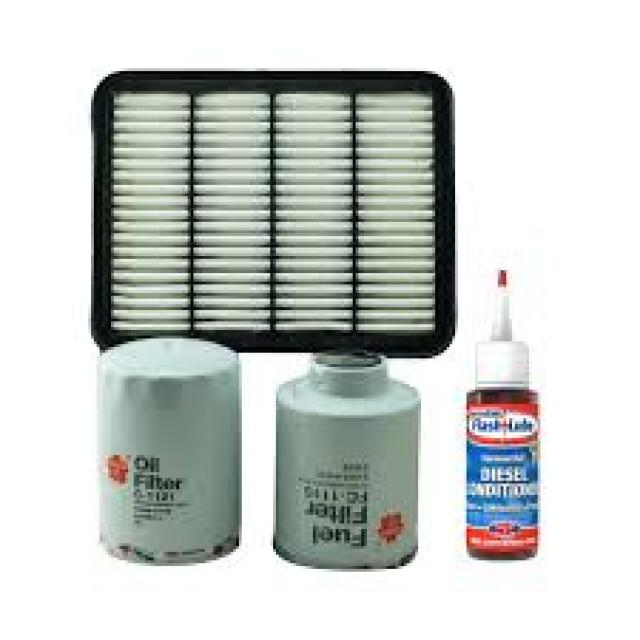air_filter: (86, 63, 457, 340)
oil_filter: (92, 334, 246, 563), (280, 354, 422, 570)
